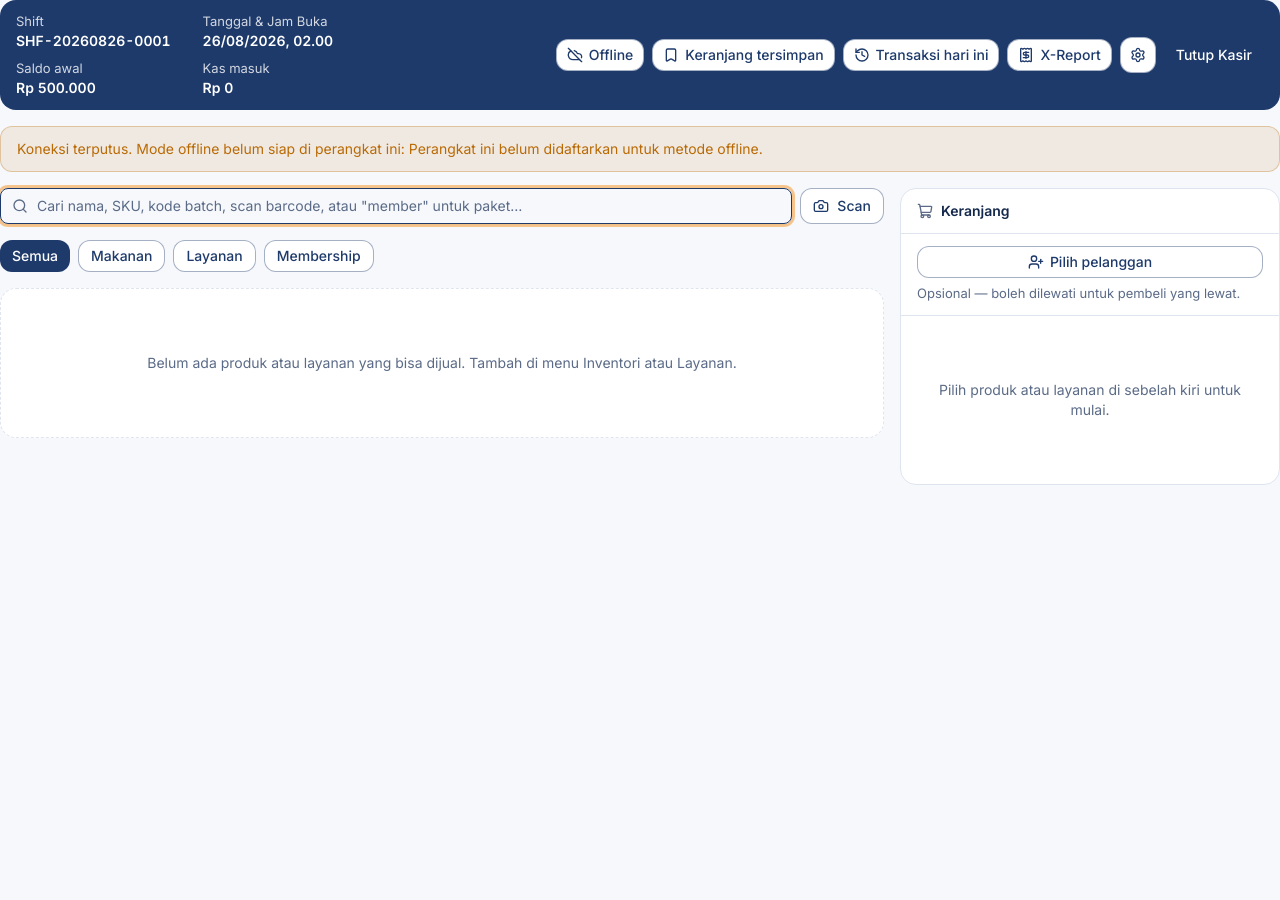
Test case: PosScreen — FR-3's banner › appears once the customer has appointments today, and says how many
What coordinates should you click on to do the following:
click the button "Pilih pelanggan"
I would click on:
 (1090, 262)
Its box is [917,246,1263,278].
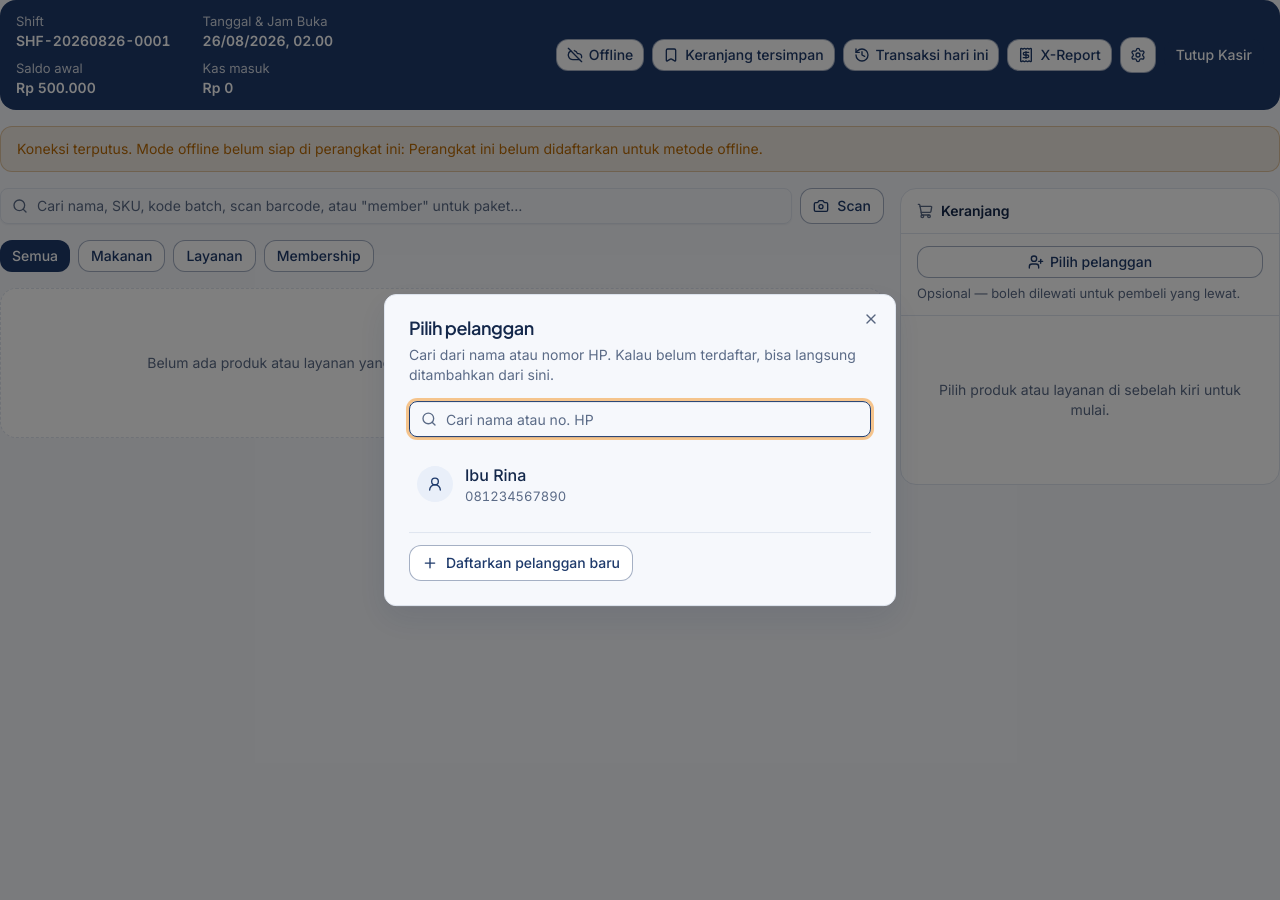
What coordinates should you click on to do the following:
click the text "Ibu Rina"
I would click on:
 (496, 475)
Its box is [465,465,526,485].
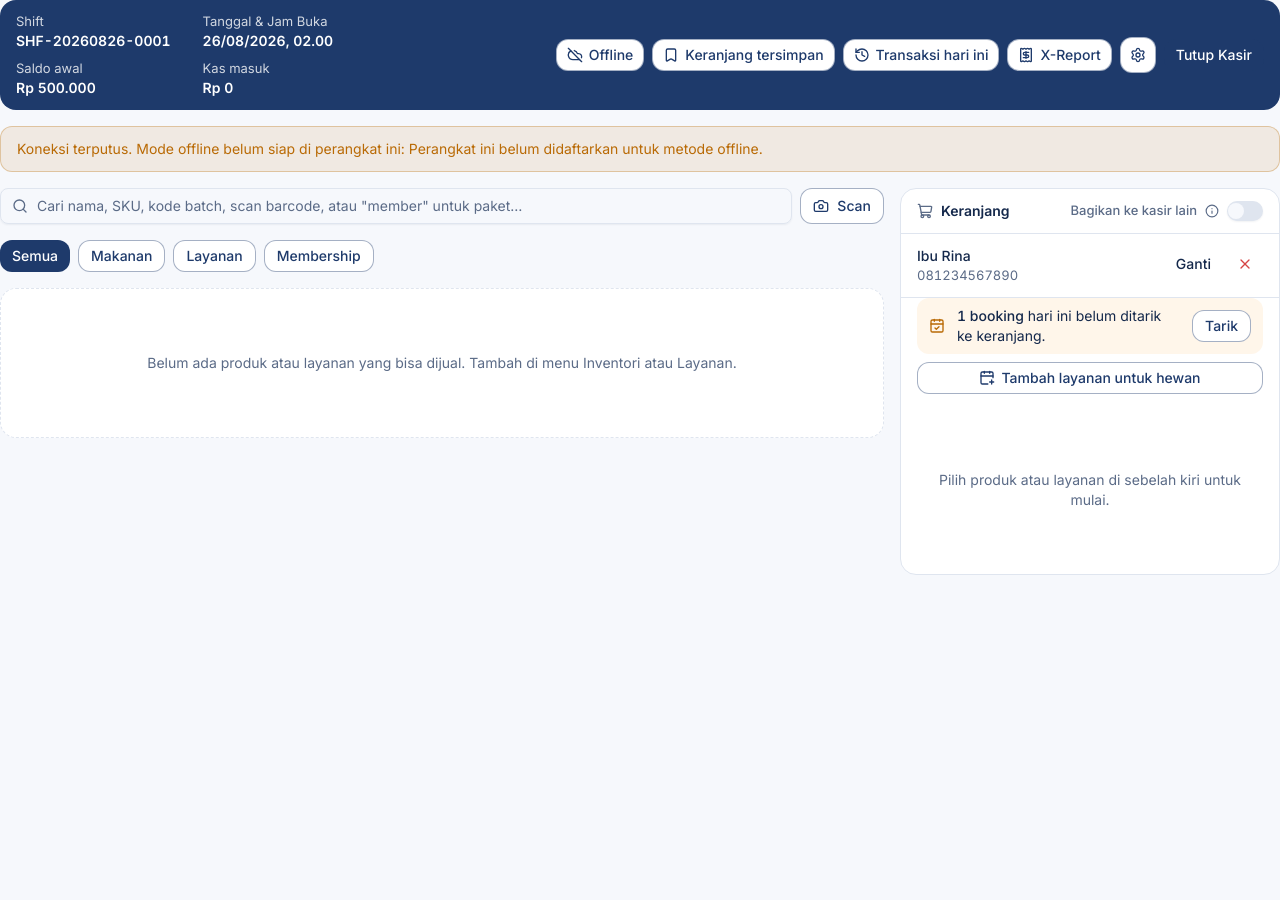
Now the text "1 booking" is shown, box [957,306,1024,324]
Now the button "Tarik" is shown, box [1192,310,1251,342]
